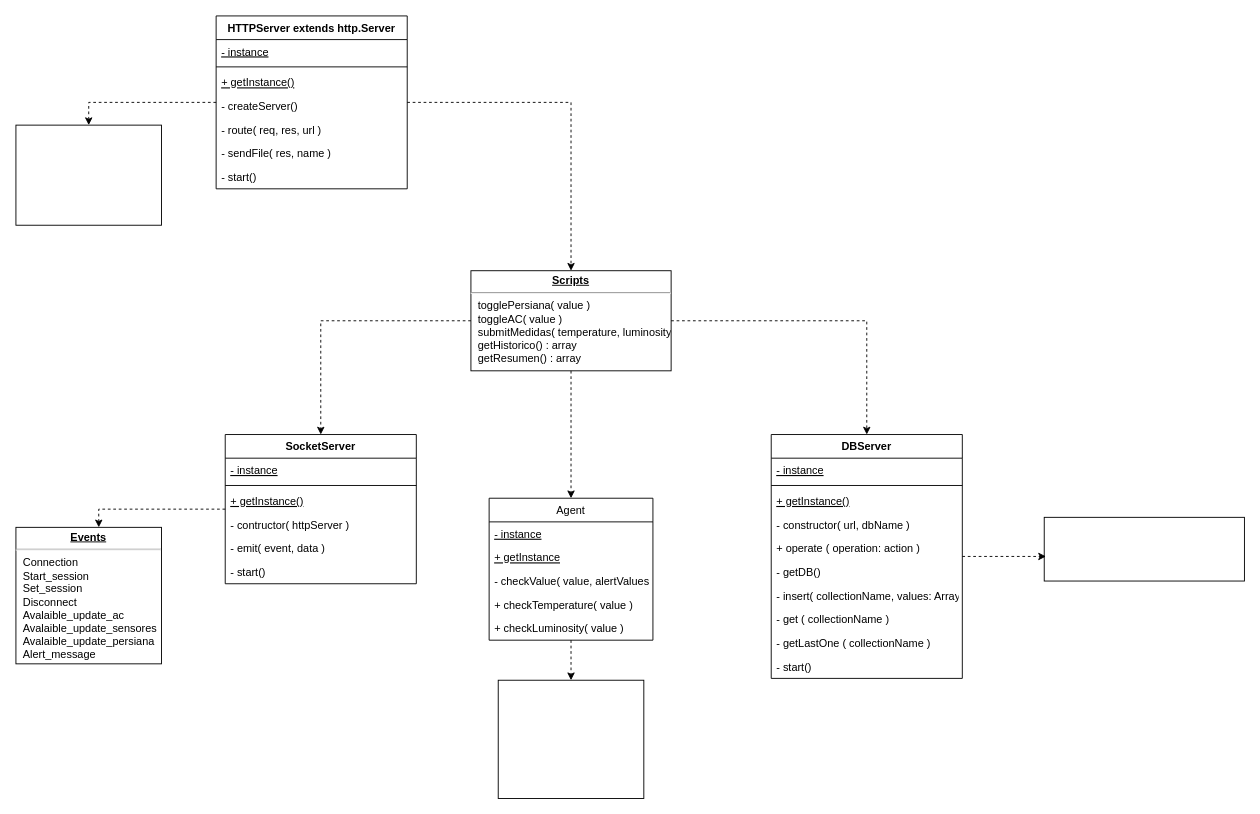
The diagram is 1260 pixels wide and 814 high, and some of its shapes have lost their labels. Here are the shapes that lost their labels. From the top down, the centre of each, then its label:
At [88,174]: "Pages LOGIN RESUMEN ACTUADORES HISTORICO NOT_FOUND".
At [1143,548]: "Actions ActionPost( req, res, callback: script ) ActionGet( res, callback )".
At [570,739]: "AlertValues temperature { min, max }, luminosity { min, max }".
